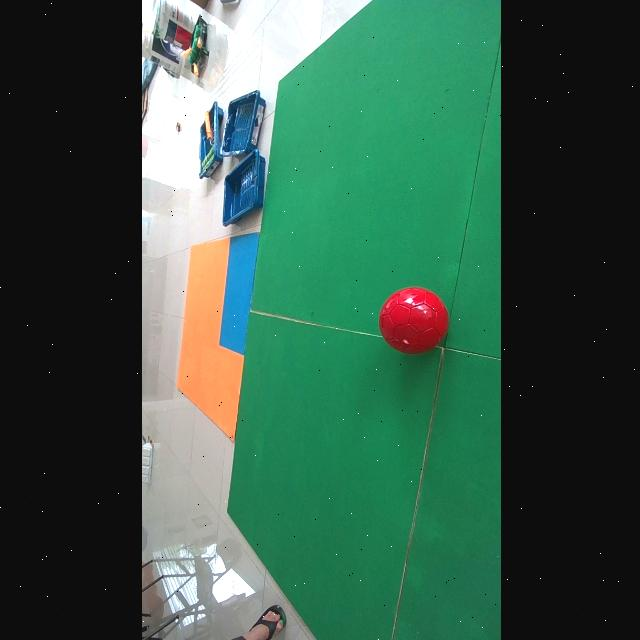R: (377, 286, 448, 355), (408, 305, 433, 331)
